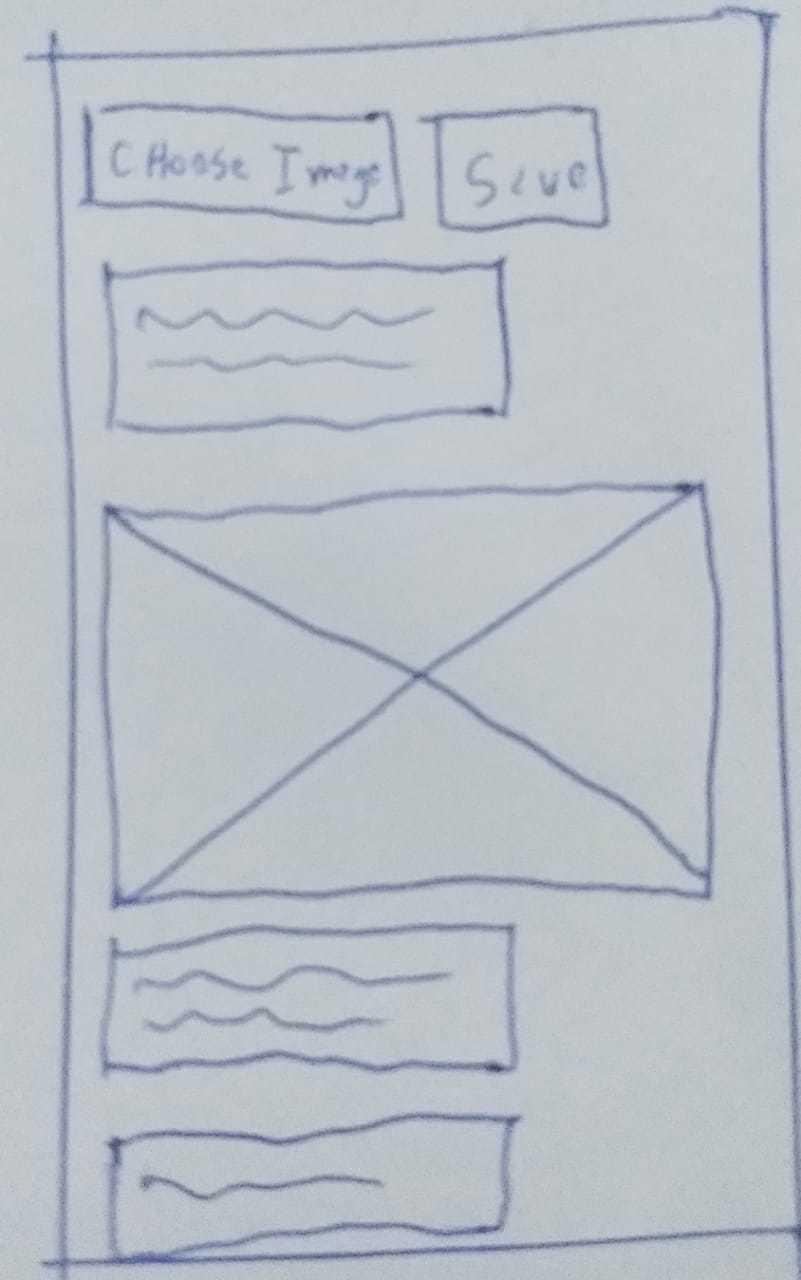Button: (83, 101, 405, 225), (434, 103, 610, 233)
Image: (98, 480, 723, 909)
Screen: (48, 10, 798, 1264)
TextBox: (103, 259, 511, 431), (102, 923, 515, 1073), (109, 1115, 511, 1258)
